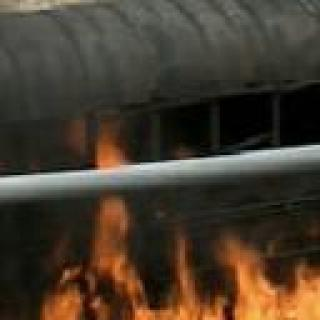fire: (34, 225, 320, 320), (61, 113, 149, 163)
